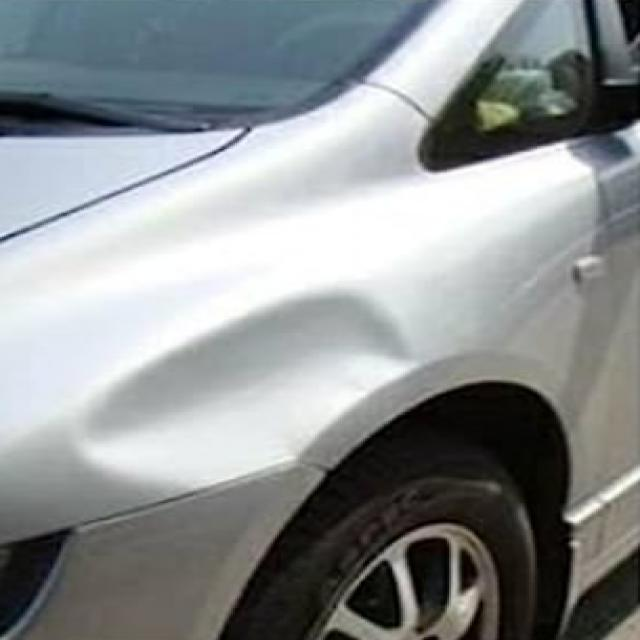dents: (79, 284, 424, 516)
